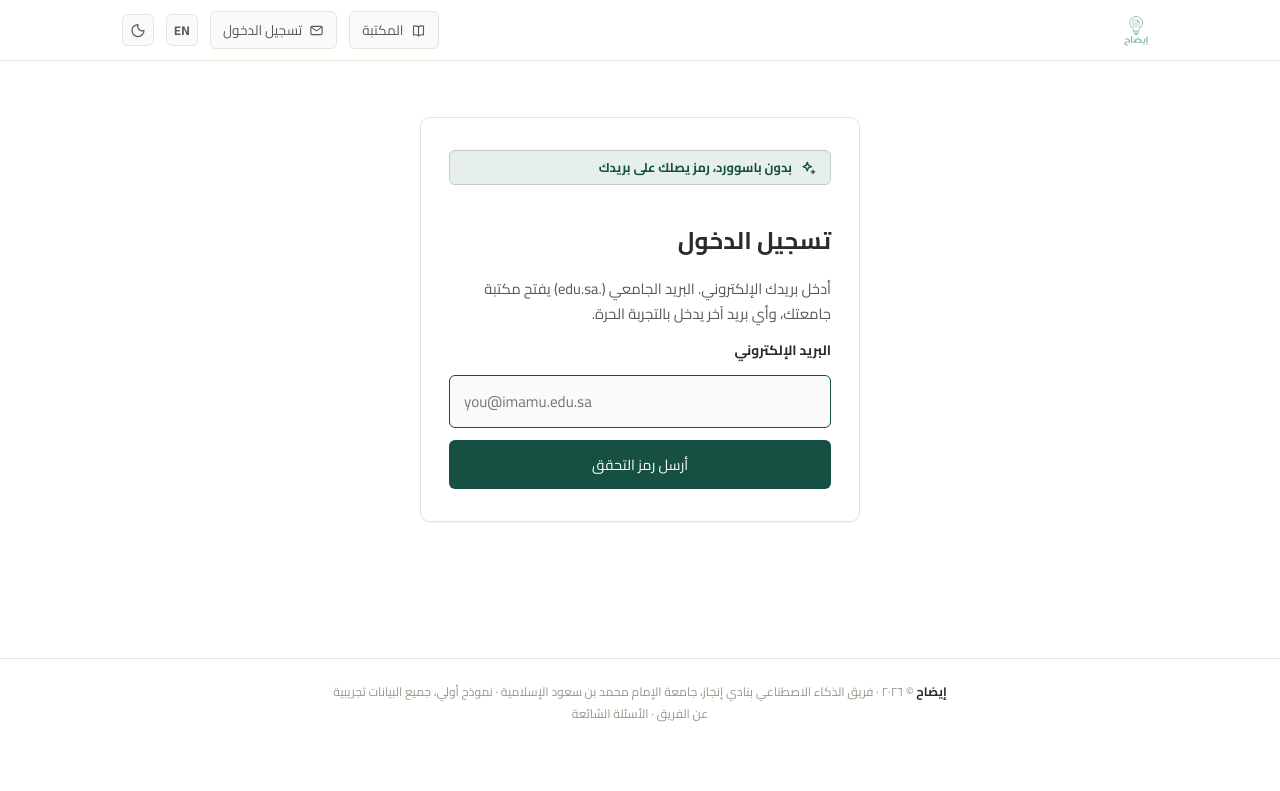
Test case: الإيميل غير الجامعي يدخل بالتجربة الحرة
The image size is (1280, 791).
Type "someone@gmail.com" into the field labelled "البريد الإلكتروني" at {"x": 640, "y": 401}, box 449,375 -> 831,428
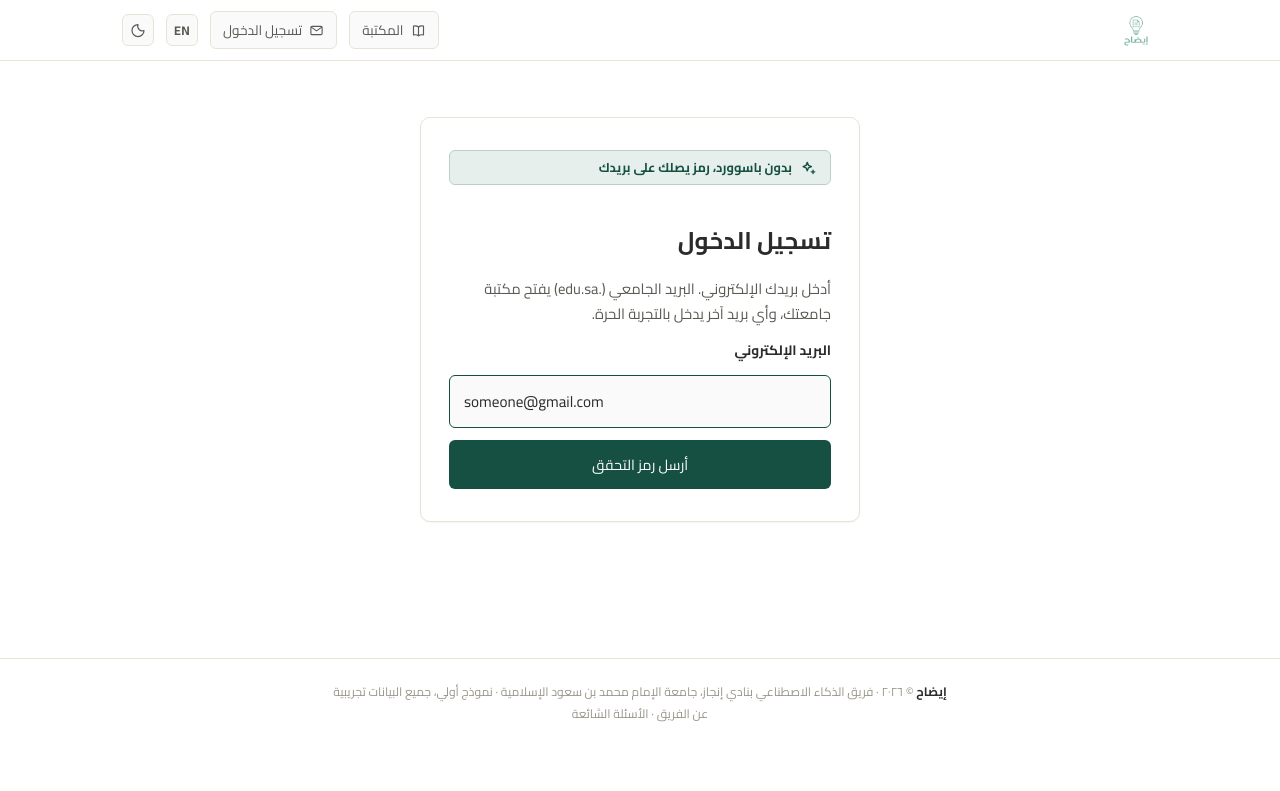
Click the button "أرسل رمز التحقق" at {"x": 640, "y": 464}, box 449,440 -> 831,489
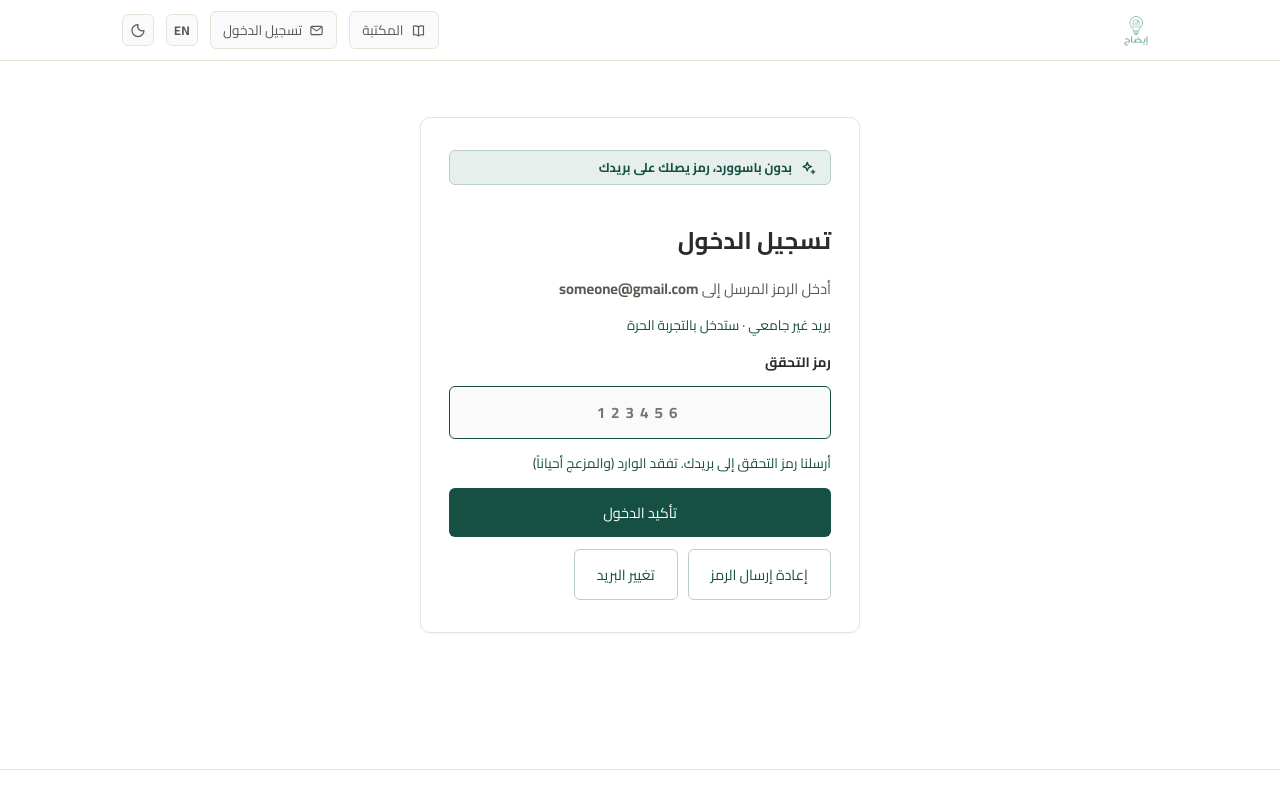
expect the text "بريد غير جامعي · ستدخل بالتجربة الحرة" is shown: met, box 627,312 -> 831,338
